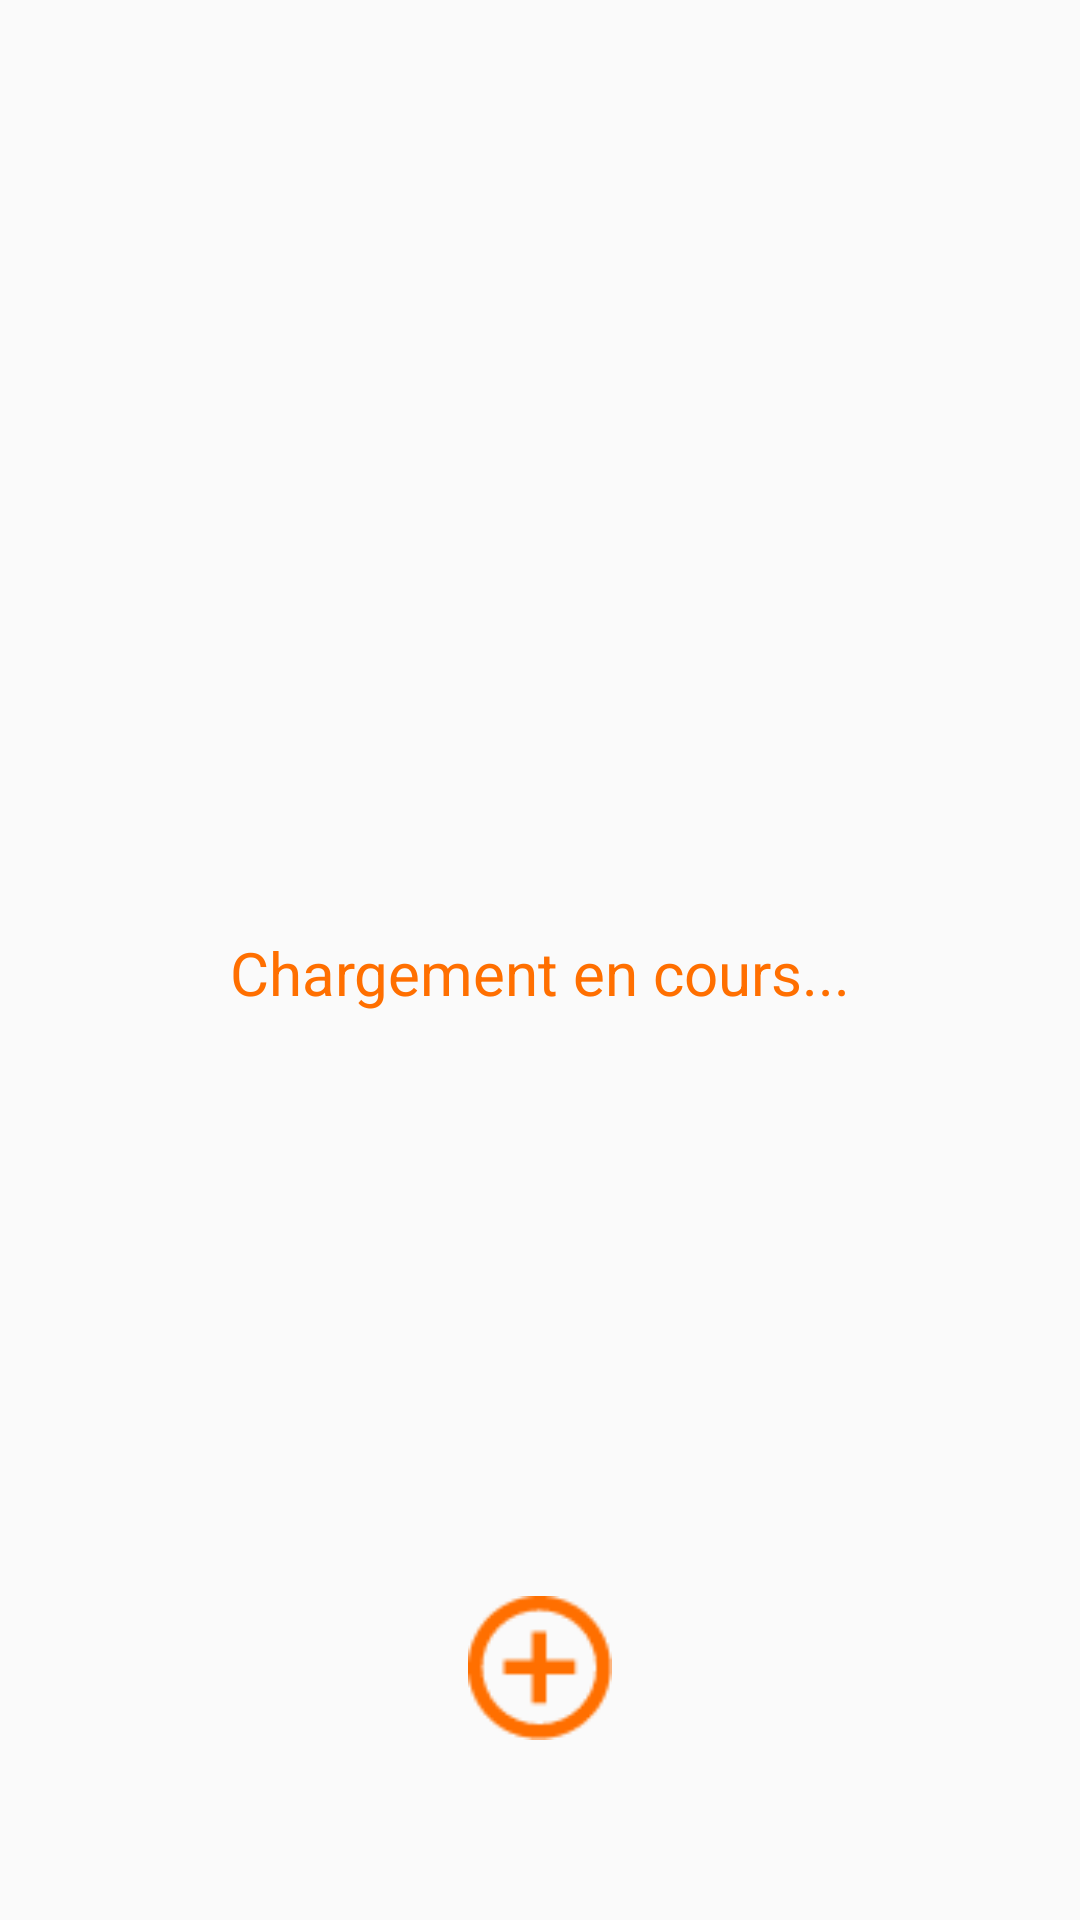

Icons on this 1080w x 1920h Android screen, each with the point to tap as (x,y):
add circle: (540,1668)
